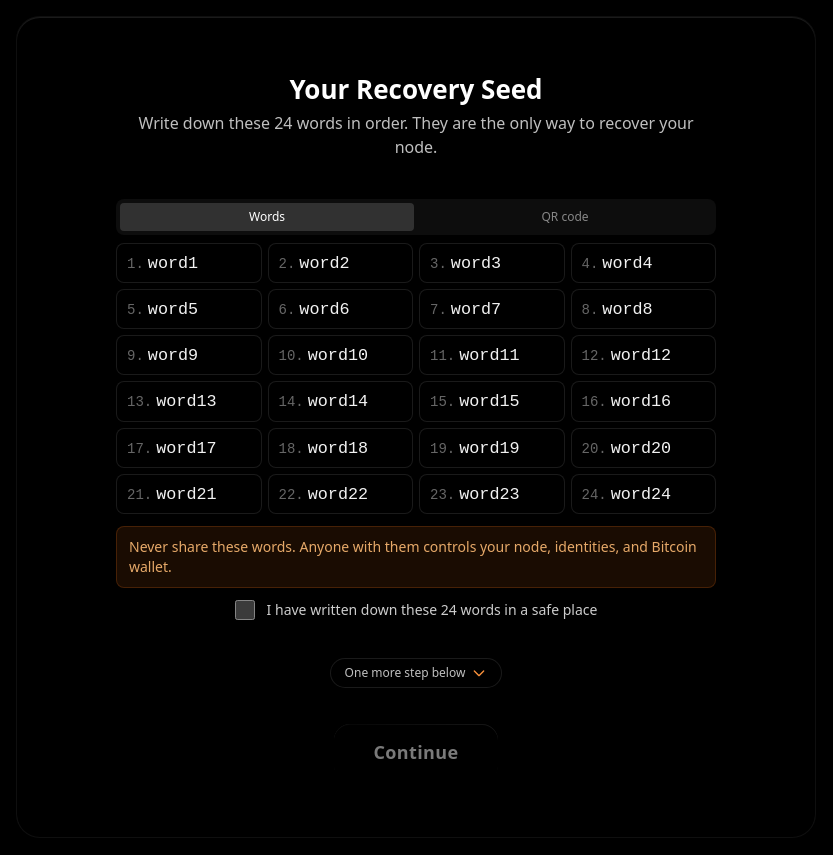
OnboardingSeedGenerate scroll cue (UIFIX-03) › removes the cue once the tickbox is ticked
The width and height of the screenshot is (833, 855).
Click the checkbox labelled "I have written down these 24 words in a safe place" at (245, 610), box x1=235 y1=600 x2=255 y2=620
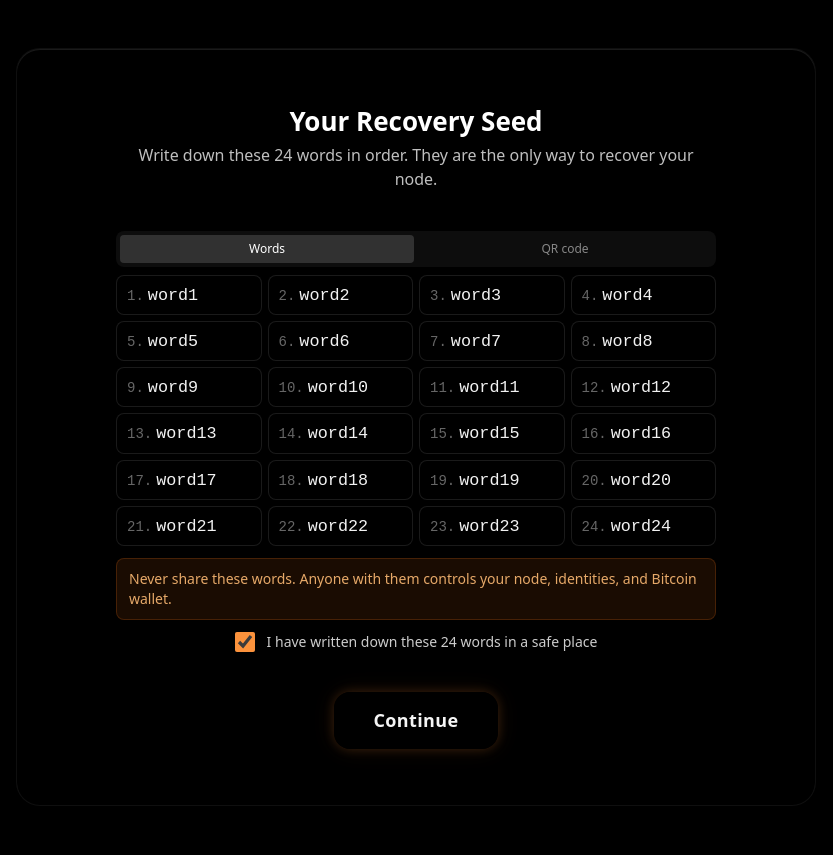
Expected: the text "One more step below" is gone
